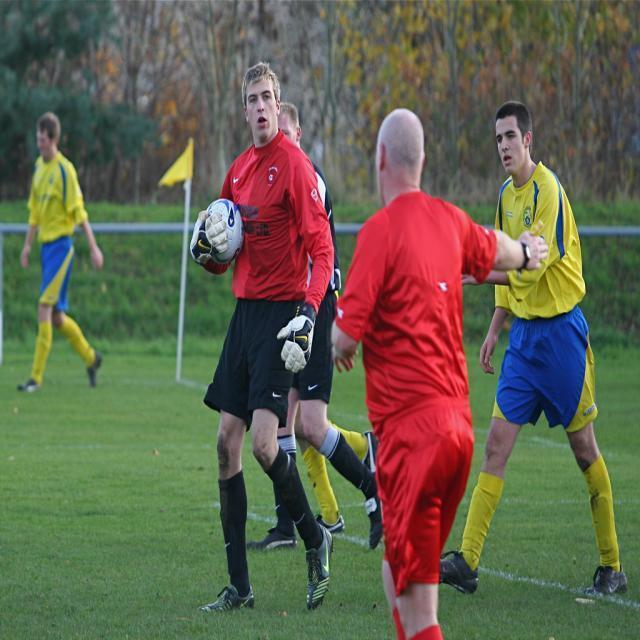ball: (205, 199, 244, 265)
